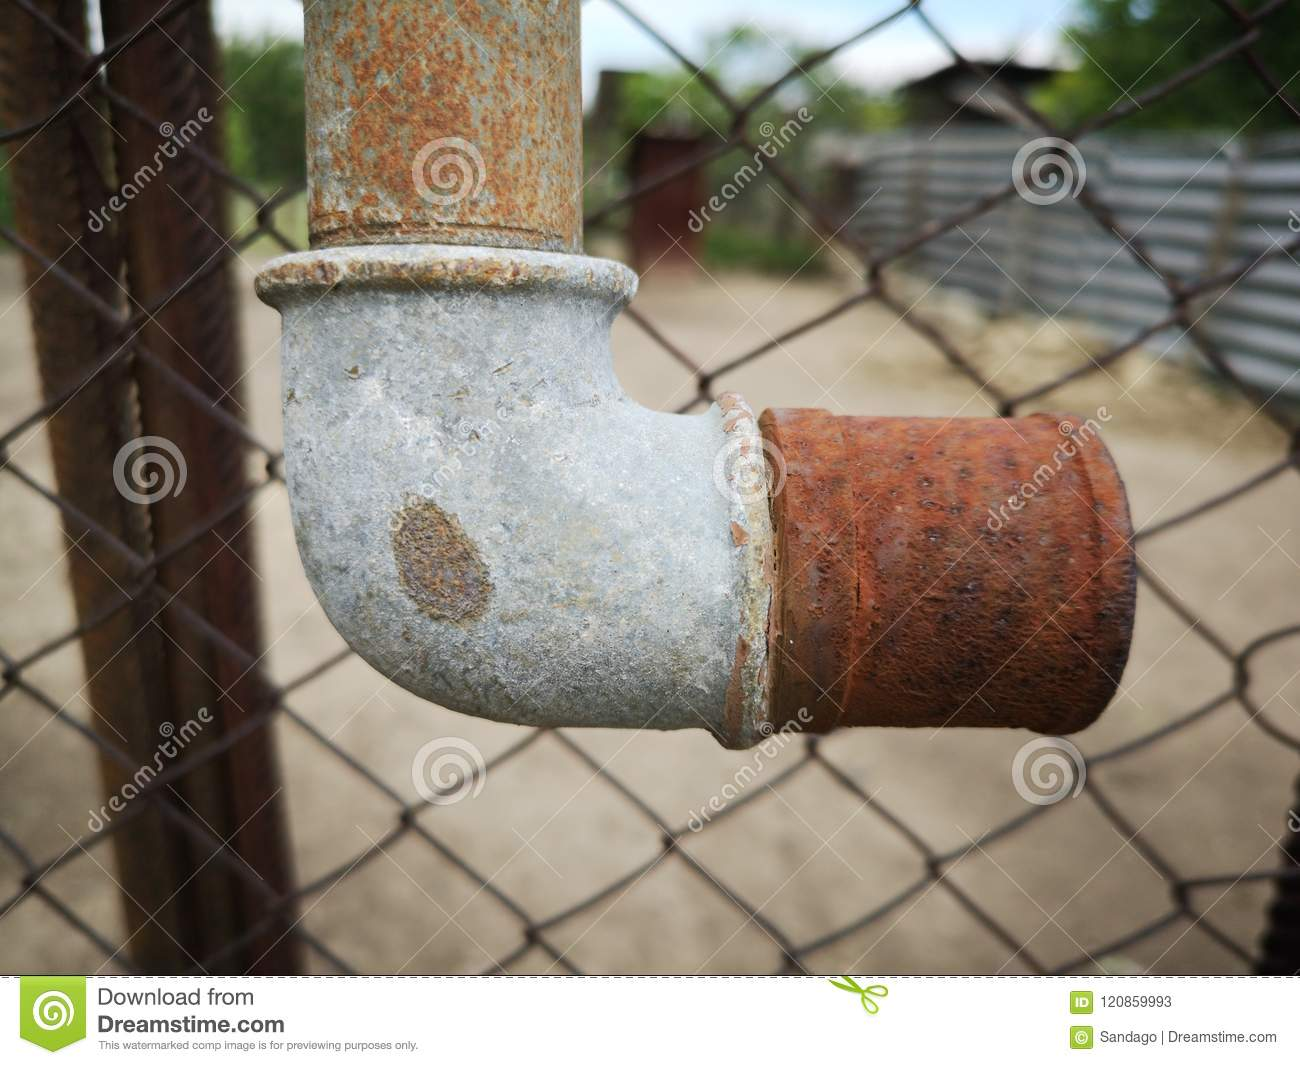Low: (282, 3, 608, 245), (388, 493, 501, 629)
Moderate: (764, 395, 1149, 747)
